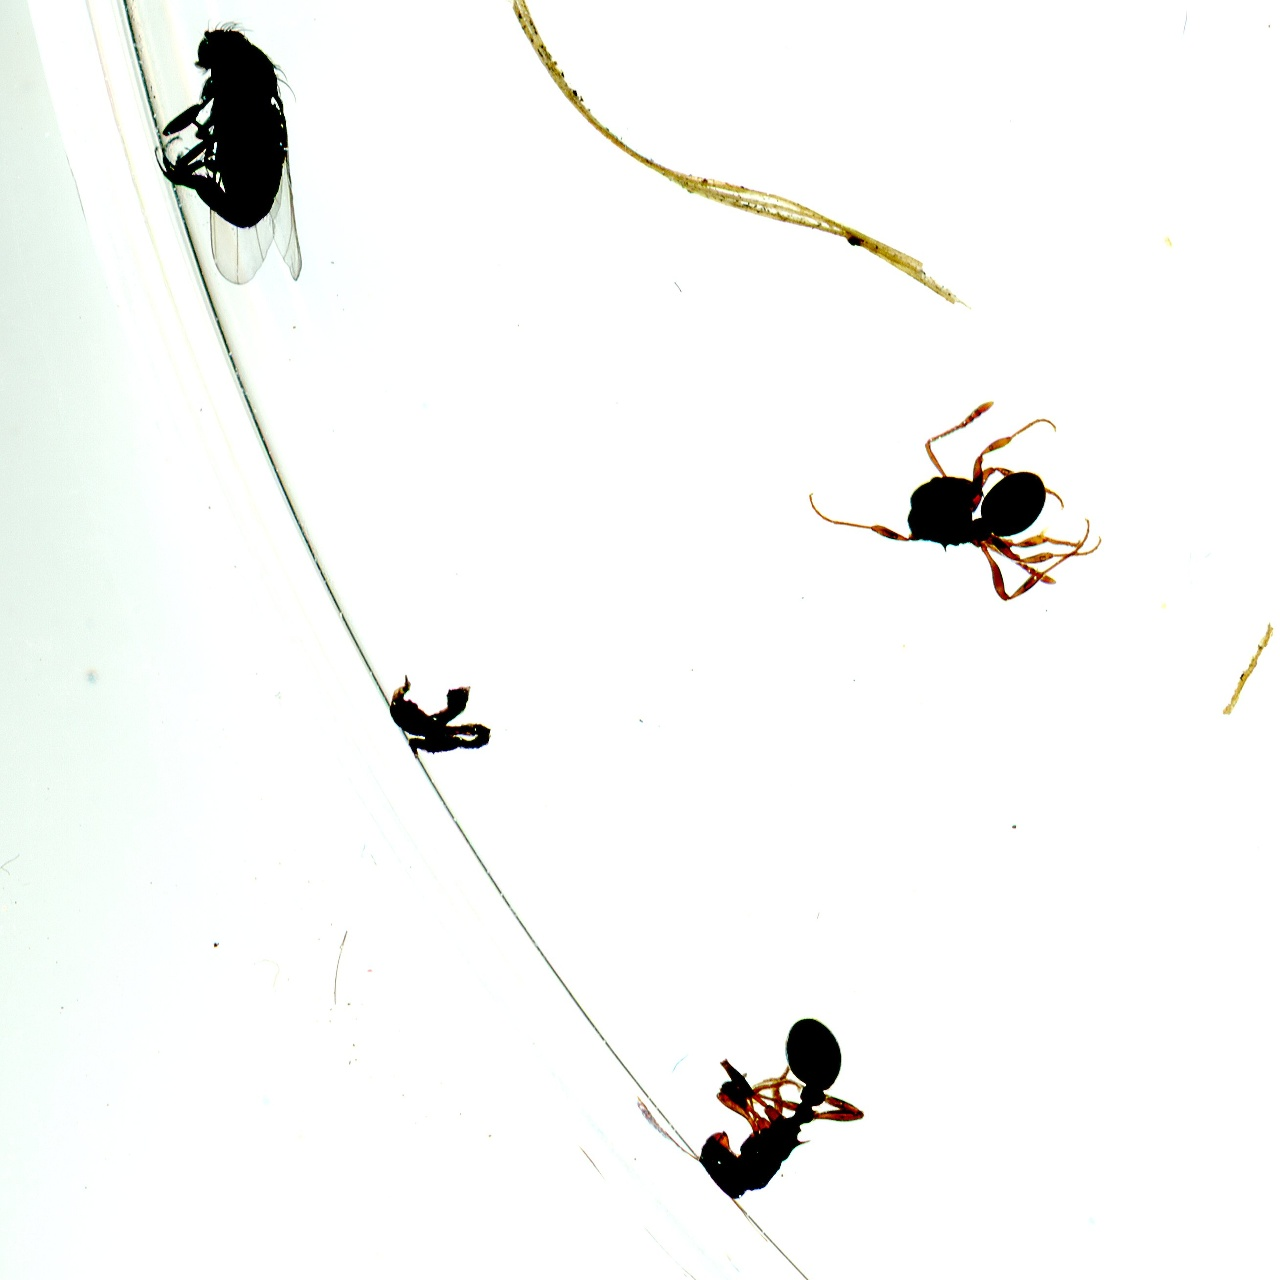arthropod: (614, 948, 905, 1240), (795, 393, 1110, 601), (148, 6, 312, 301)
